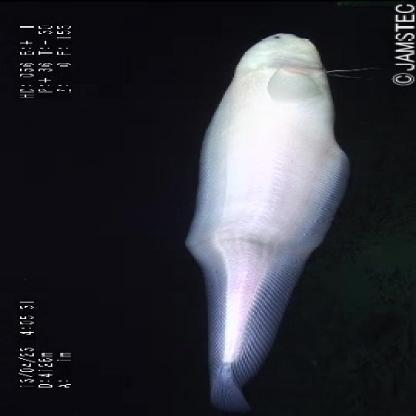Bio: (179, 32, 351, 414)
